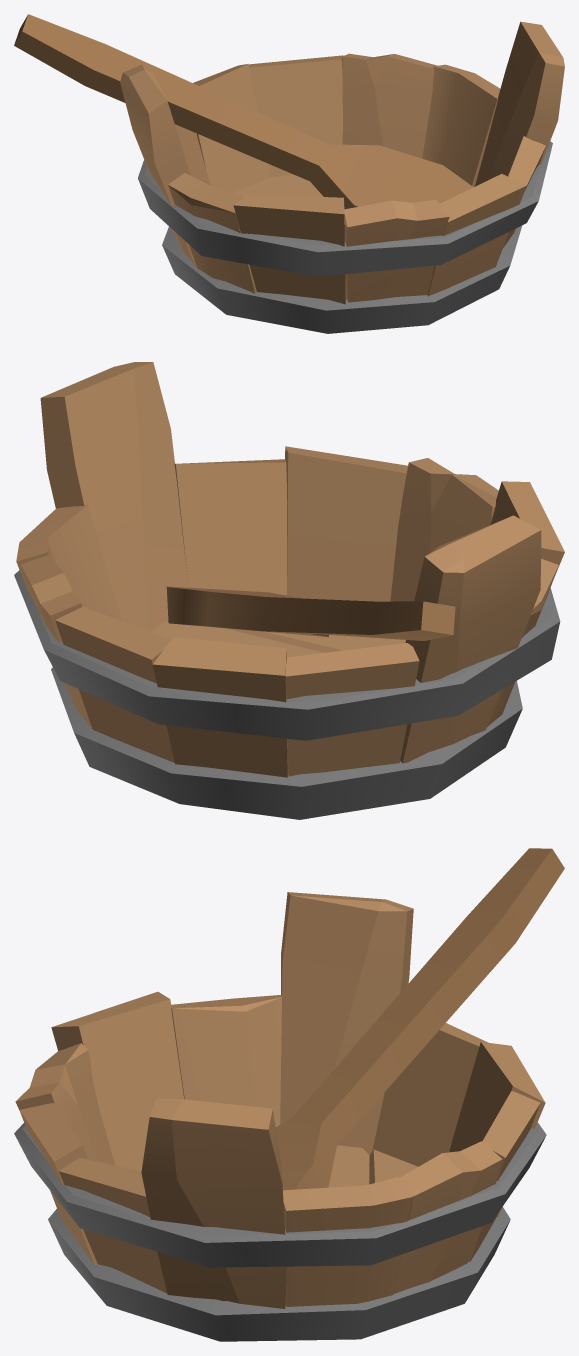
Rendered from Bucket_Wood_D.fbx.
The picture shows the model from 3 angles, top to bottom: view 1: azimuth 30°, elevation 25°; view 2: azimuth 150°, elevation 25°; view 3: azimuth 270°, elevation 25°; orthographic projection. The views are drawn at different scales.
Parts seen in each view (by area): view 1: Bucket_Wood_D; view 2: Bucket_Wood_D; view 3: Bucket_Wood_D.
Boxes of the visible parts, bbox=[...] form: Bucket_Wood_D: bbox=[14, 14, 564, 333]; Bucket_Wood_D: bbox=[14, 362, 564, 819]; Bucket_Wood_D: bbox=[14, 848, 564, 1341].
Size of the model in its own units: 125 by 63.3 by 112.
